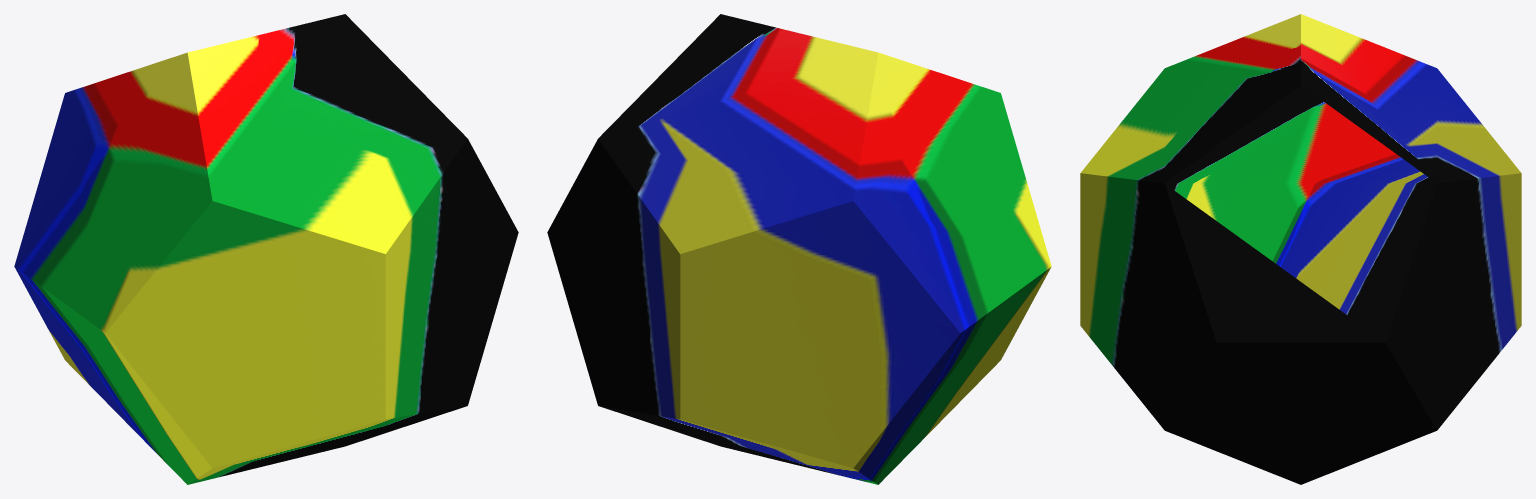
Rendered from dod.glb.
3 views of the same model, side by side, from view 1: azimuth 30°, elevation 25°; view 2: azimuth 150°, elevation 25°; view 3: azimuth 270°, elevation 25° (orthographic). The views are drawn at different scales.
Visible parts, largest first — view 1: Object_4; view 2: Object_4; view 3: Object_4.
Boxes of the visible parts, box(x1,y1,x2,y2) form: Object_4: box(14, 14, 518, 484); Object_4: box(547, 14, 1051, 484); Object_4: box(1080, 14, 1521, 484).
Size of the model in its own units: 0.9342 by 0.9342 by 0.9342.
1 material, 1 textured.
